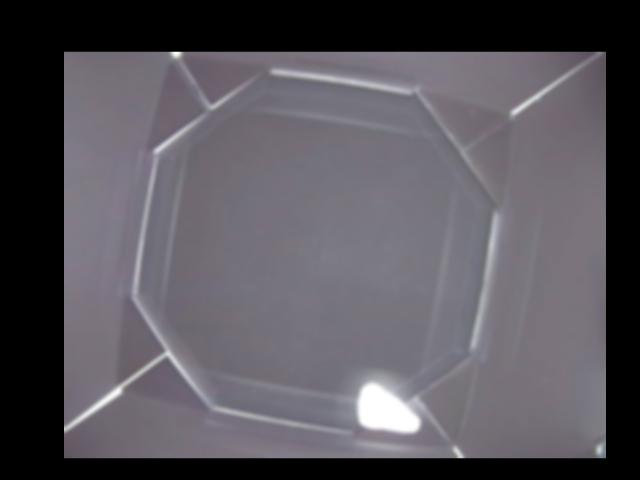Pebble: (356, 382, 419, 433)
